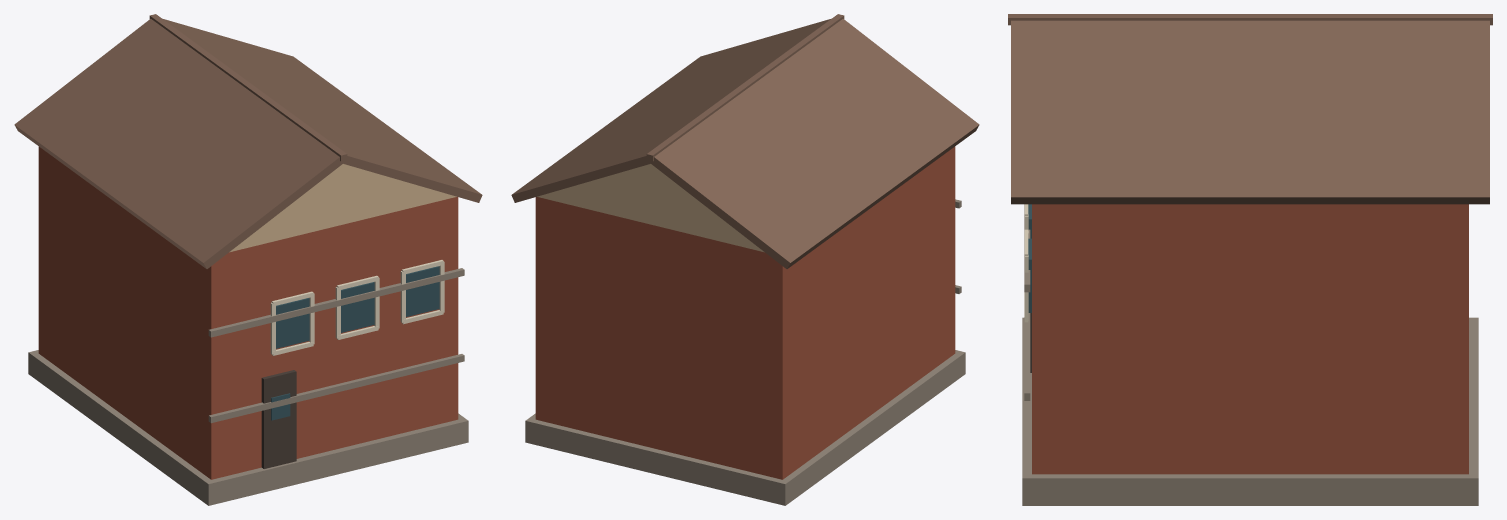
Rendered from arizona-brick-house_lod0.glb.
3 views of the same model, side by side, from view 1: azimuth 30°, elevation 25°; view 2: azimuth 150°, elevation 25°; view 3: azimuth 270°, elevation 25° (orthographic). The views are drawn at different scales.
Visible parts, largest first — view 1: RF_AZ_Brick_Walls, RF_AZ_Brick_RoofLeft, RF_AZ_Brick_RoofRight, RF_AZ_Brick_Foundation, RF_AZ_Brick_Gable, RF_AZ_Brick_Door, RF_AZ_Brick_Belt, RF_AZ_Brick_Belt.001, RF_AZ_Brick_Ridge, RF_AZ_Brick_Window.001, RF_AZ_Brick_Window.002, RF_AZ_Brick_Window; view 2: RF_AZ_Brick_Walls, RF_AZ_Brick_RoofLeft, RF_AZ_Brick_RoofRight, RF_AZ_Brick_Foundation, RF_AZ_Brick_Gable.001, RF_AZ_Brick_Ridge; view 3: RF_AZ_Brick_Walls, RF_AZ_Brick_RoofRight, RF_AZ_Brick_Foundation, RF_AZ_Brick_Ridge, RF_AZ_Brick_Belt.
Part boxes in pixels (box(x1,y1,x2,y2)): RF_AZ_Brick_Walls: box(38, 146, 458, 479); RF_AZ_Brick_RoofLeft: box(14, 19, 344, 268); RF_AZ_Brick_RoofRight: box(163, 19, 482, 202); RF_AZ_Brick_Foundation: box(28, 350, 468, 505); RF_AZ_Brick_Gable: box(229, 164, 456, 252); RF_AZ_Brick_Door: box(261, 370, 296, 468); RF_AZ_Brick_Belt: box(208, 354, 464, 423); RF_AZ_Brick_Belt.001: box(208, 268, 464, 337); RF_AZ_Brick_Ridge: box(149, 14, 347, 161); RF_AZ_Brick_Window.001: box(341, 282, 374, 332); RF_AZ_Brick_Window.002: box(406, 266, 439, 316); RF_AZ_Brick_Window: box(276, 298, 309, 348); RF_AZ_Brick_Walls: box(535, 146, 955, 479); RF_AZ_Brick_RoofLeft: box(649, 19, 979, 268); RF_AZ_Brick_RoofRight: box(511, 19, 830, 202); RF_AZ_Brick_Foundation: box(525, 350, 965, 505); RF_AZ_Brick_Gable.001: box(537, 164, 764, 252); RF_AZ_Brick_Ridge: box(646, 14, 844, 161); RF_AZ_Brick_Walls: box(1032, 204, 1468, 474); RF_AZ_Brick_RoofRight: box(1011, 20, 1489, 204); RF_AZ_Brick_Foundation: box(1022, 317, 1478, 505); RF_AZ_Brick_Ridge: box(1008, 14, 1492, 25); RF_AZ_Brick_Belt: box(1024, 292, 1030, 400).
Size of the model in its own units: 10.74 by 11.89 by 12.75.
